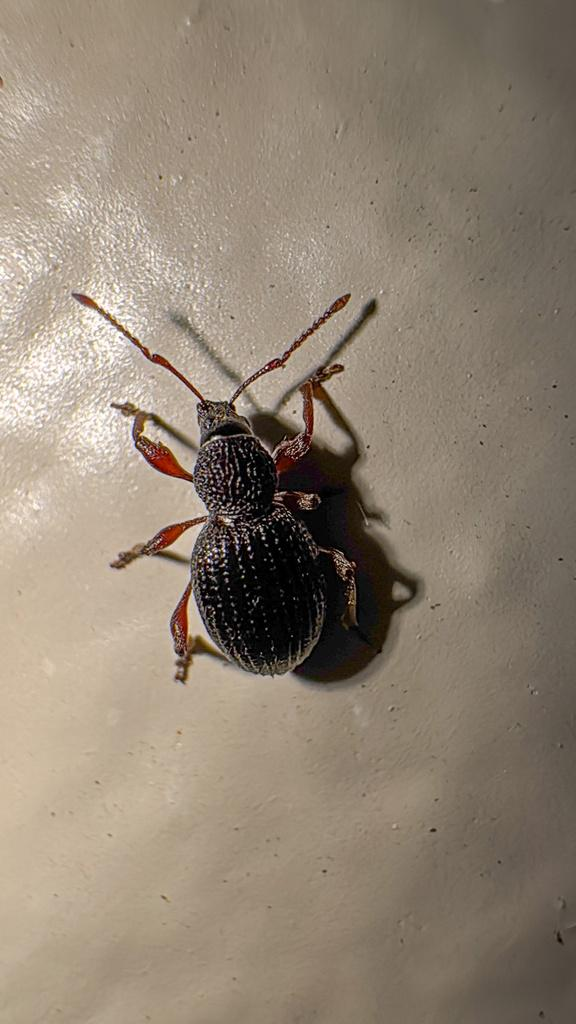weevils: (0, 227, 460, 753)
